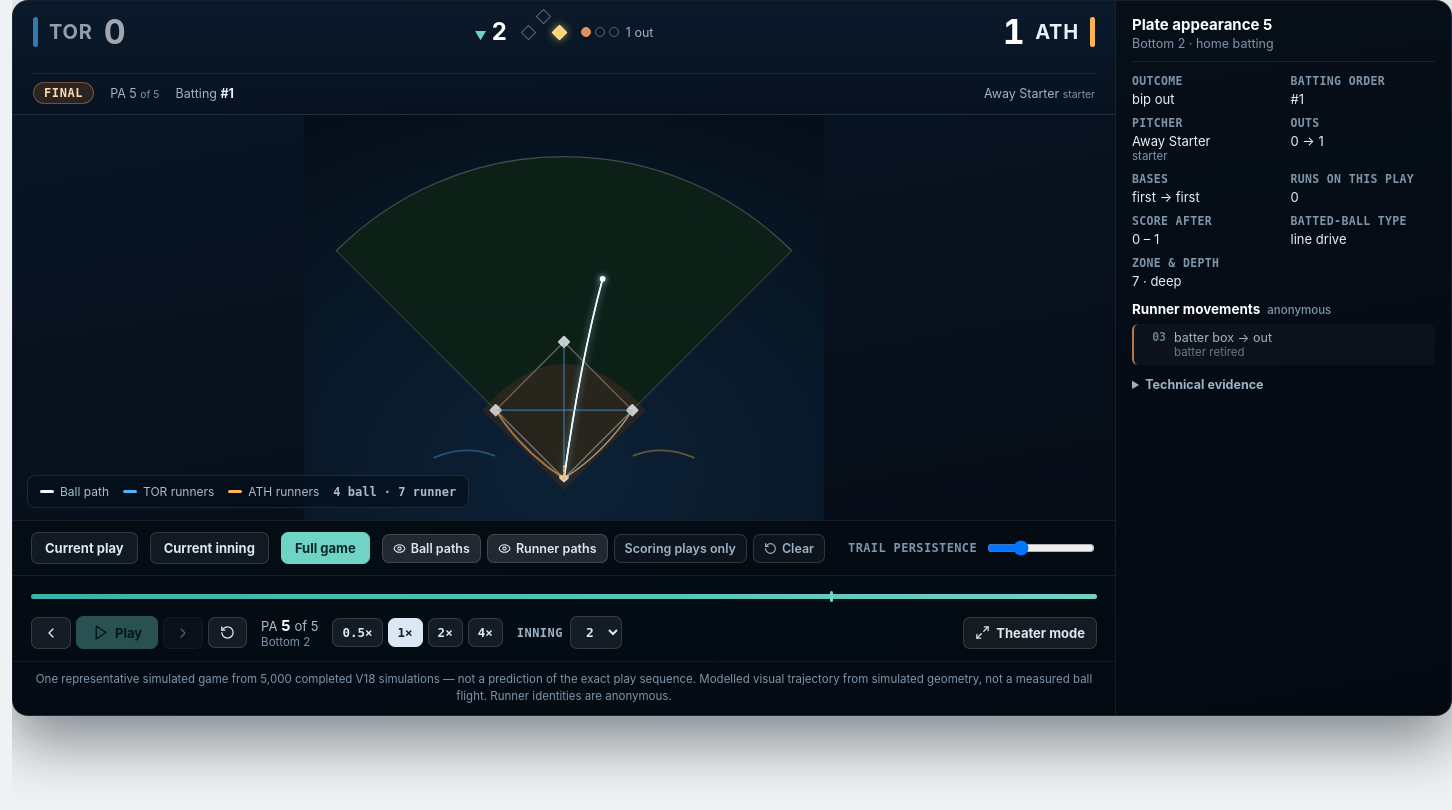
it: navigation › keeps manual navigation under reduced motion
The width and height of the screenshot is (1452, 810).
Step 1. Set the slider to "1" → point(564, 618), box top-left (13, 575), bottom-right (1115, 661)
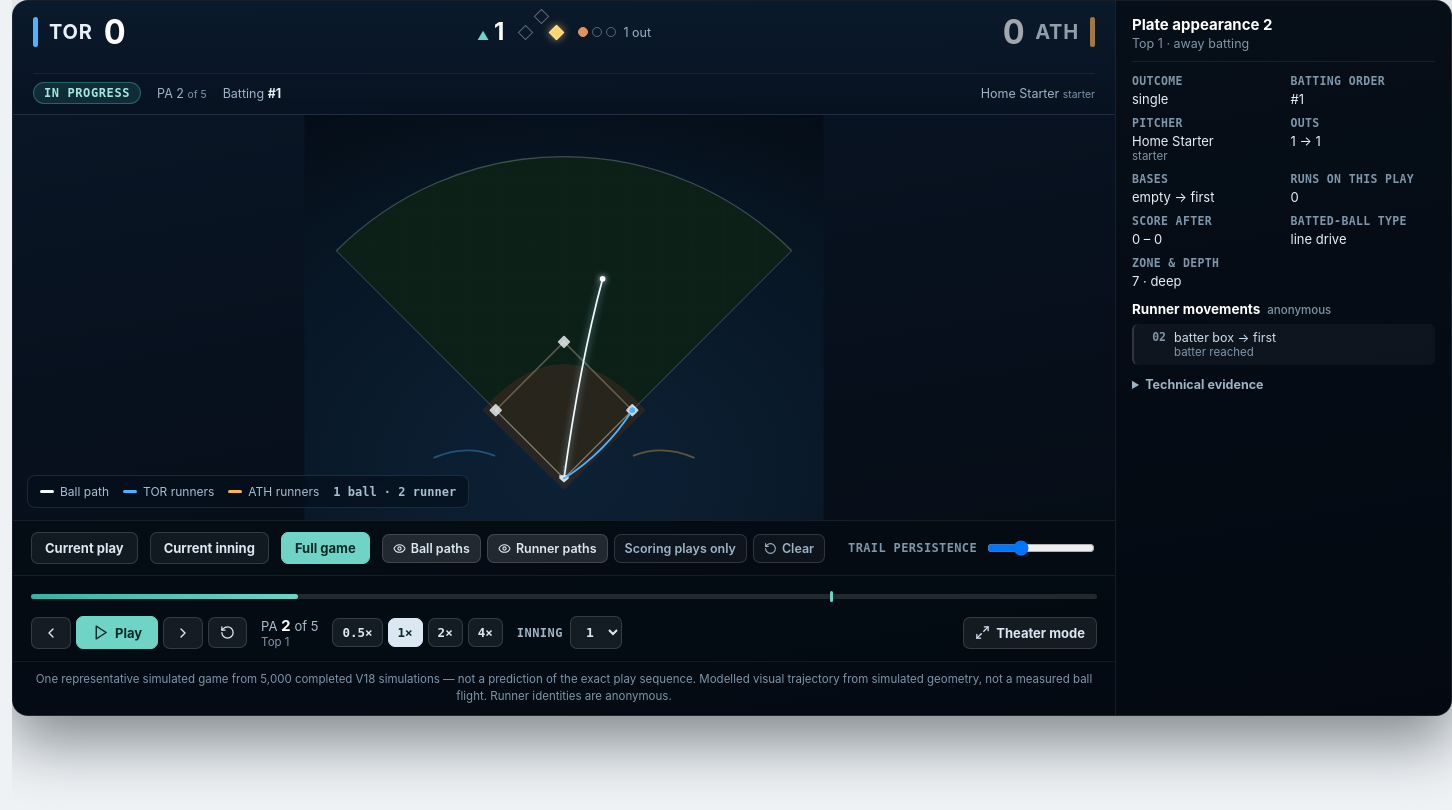
Check: the text "Plate appearance 2" is shown, box top-left (1132, 15), bottom-right (1272, 34)
